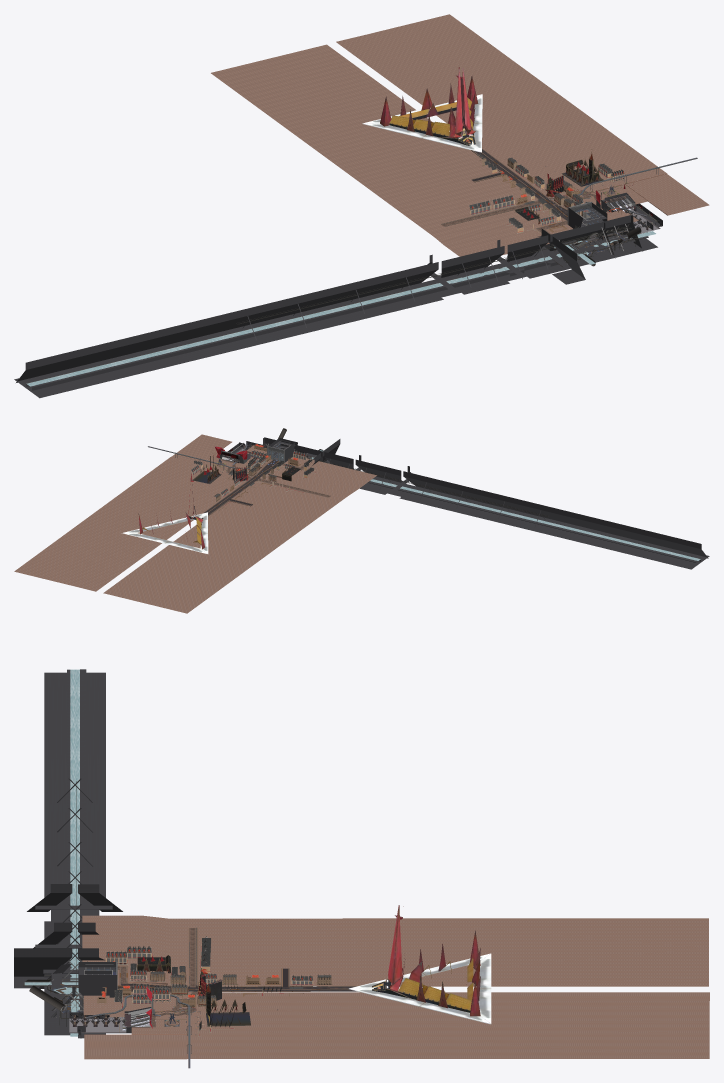
File: track.glb
The picture shows the model from 3 angles, top to bottom: view 1: azimuth 30°, elevation 25°; view 2: azimuth 150°, elevation 25°; view 3: azimuth 270°, elevation 25°; orthographic projection. The views are drawn at different scales.
Visible parts, largest first — view 1: E_TroyCity_Dimian_01, E_TroyCity_Wall_02, E_TroyCity_DtBuild_01, E_TroyCity_Water_01, E_TroyCity_PmBuild_01A, E_TroyCity_Lujian_01, E_TroyCity_DtBuild_02, E_TroyCity_Road_01, E_TroyCity_Diban_01, E_TroyCity_PmBuild_03a; view 2: E_TroyCity_Dimian_01, E_TroyCity_Wall_02, E_TroyCity_PmBuild_01A, E_TroyCity_DtBuild_01, E_TroyCity_Water_01, E_TroyCity_Lujian_01, E_TroyCity_Road_01, E_TroyCity_DtBuild_02, E_TroyCity_Diban_01, E_TroyCity_PmBuild_03a; view 3: E_TroyCity_Dimian_01, E_TroyCity_Wall_02, E_TroyCity_DtBuild_01, E_TroyCity_PmBuild_01A, E_TroyCity_Water_01, E_TroyCity_Lujian_01, E_TroyCity_DtBuild_02, E_TroyCity_Road_01, E_TroyCity_PmBuild_03a.
Part boxes in pixels (x1,y1,x2,y2): E_TroyCity_Dimian_01: (211,14,709,256); E_TroyCity_Wall_02: (14,192,662,398); E_TroyCity_DtBuild_01: (362,67,482,152); E_TroyCity_Water_01: (26,231,655,386); E_TroyCity_PmBuild_01A: (468,160,625,235); E_TroyCity_Lujian_01: (27,148,667,383); E_TroyCity_DtBuild_02: (515,149,603,224); E_TroyCity_Road_01: (442,149,625,231); E_TroyCity_Diban_01: (236,226,638,324); E_TroyCity_PmBuild_03a: (477,154,573,215); E_TroyCity_Dimian_01: (14,434,376,613); E_TroyCity_Wall_02: (227,437,709,569); E_TroyCity_PmBuild_01A: (191,444,315,505); E_TroyCity_DtBuild_01: (121,473,208,553); E_TroyCity_Water_01: (282,450,700,560); E_TroyCity_Lujian_01: (202,440,330,516); E_TroyCity_Road_01: (204,459,330,514); E_TroyCity_DtBuild_02: (192,455,300,483); E_TroyCity_Diban_01: (263,445,548,516); E_TroyCity_PmBuild_03a: (214,463,277,510); E_TroyCity_Dimian_01: (82,915,709,1059); E_TroyCity_Wall_02: (14,669,151,1038); E_TroyCity_DtBuild_01: (348,905,491,1024); E_TroyCity_PmBuild_01A: (87,936,313,1036); E_TroyCity_Water_01: (24,669,79,1036); E_TroyCity_Lujian_01: (47,927,359,1058); E_TroyCity_DtBuild_02: (137,955,250,1026); E_TroyCity_Road_01: (117,928,355,1027); E_TroyCity_PmBuild_03a: (150,966,332,1006).
Size of what is drawn, in the model's own units: 9901 by 1127 by 6921.
Materials: 41 (41 with a texture image).
